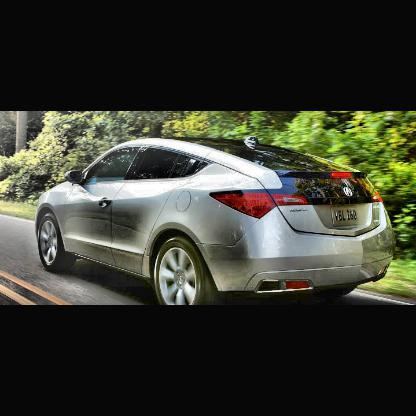Acura ZDX Hatchback 2012: (36, 138, 395, 305)
